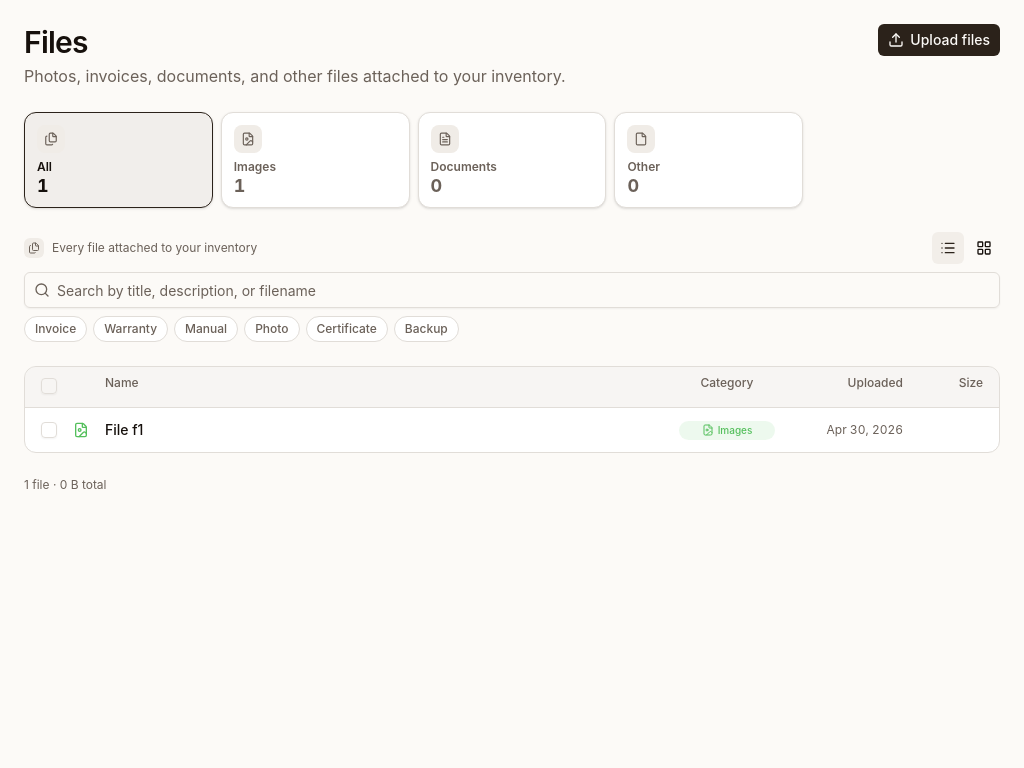
Scenario: <FilesListPage /> › toggles between list and grid views via the toolbar buttons
Expected: the element with test id "files-list" is shown, [24,366,1000,453]
Expected: the element with test id "file-row-f1" is shown, [25,408,999,452]
Click the button with test id "files-view-grid" at (984, 248), box [968,232,1000,264]
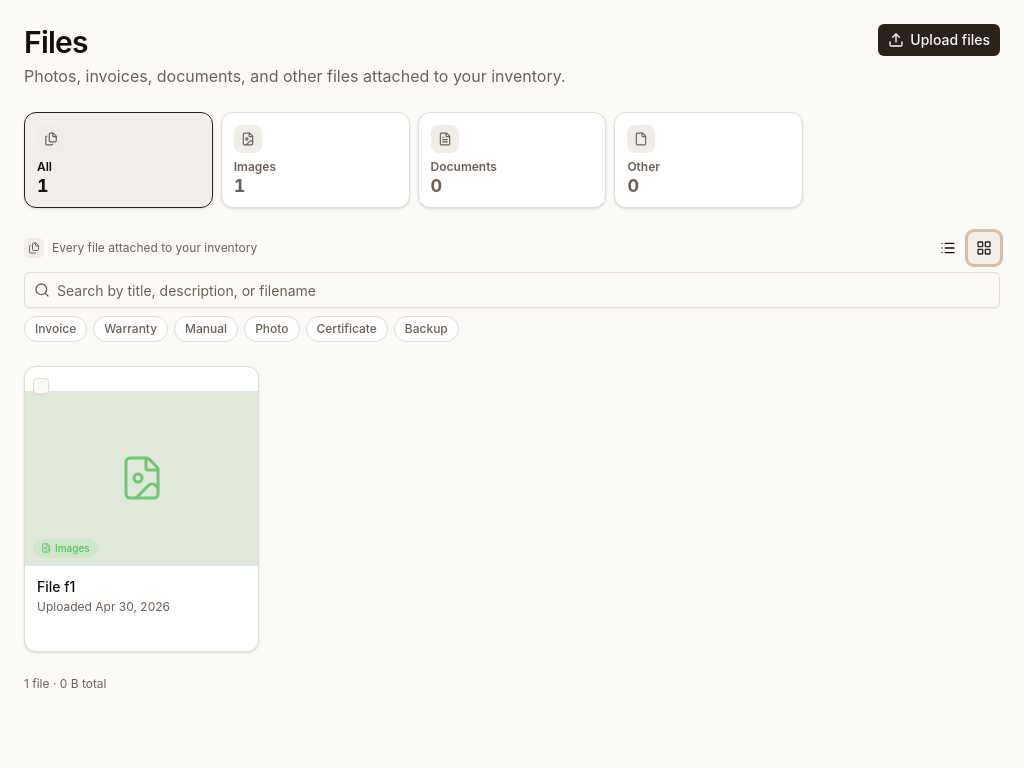
Result: the element with test id "file-card-f1" is shown at [24,366,259,652]
